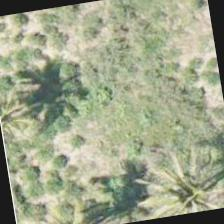Kelapa_Sawit: (0, 62, 73, 162), (149, 149, 223, 218)
